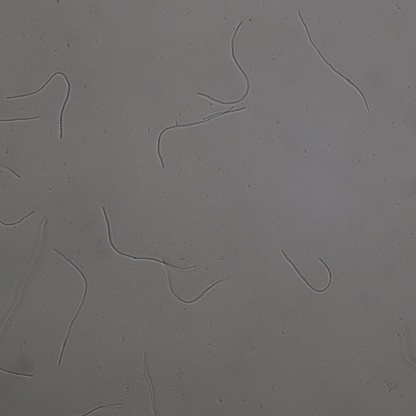Sensitive: (298, 12, 369, 109), (102, 207, 195, 270), (156, 106, 246, 168), (197, 20, 252, 105), (8, 72, 74, 138), (55, 248, 88, 366), (162, 258, 230, 303), (283, 250, 332, 293), (1, 206, 35, 227), (1, 114, 41, 125), (1, 365, 33, 377), (1, 160, 20, 178)
